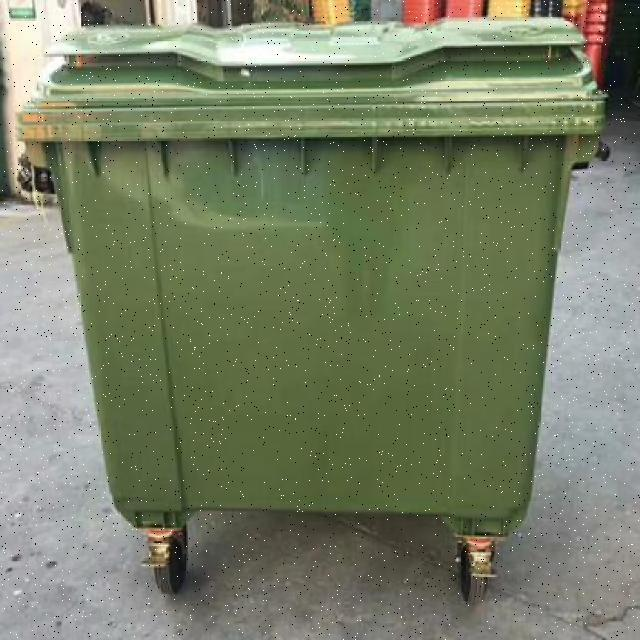garbage container: (4, 9, 613, 623)
